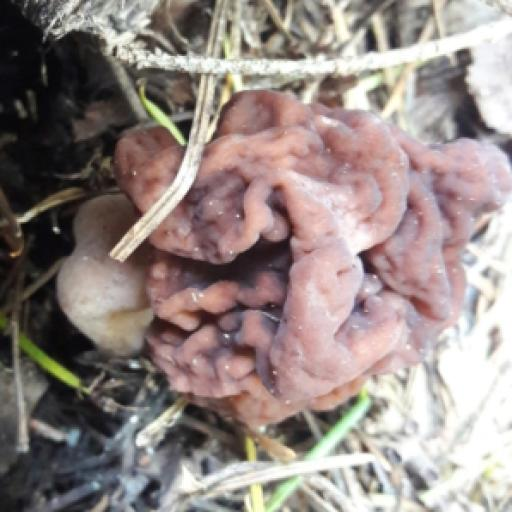False Morel: (109, 52, 512, 433)
